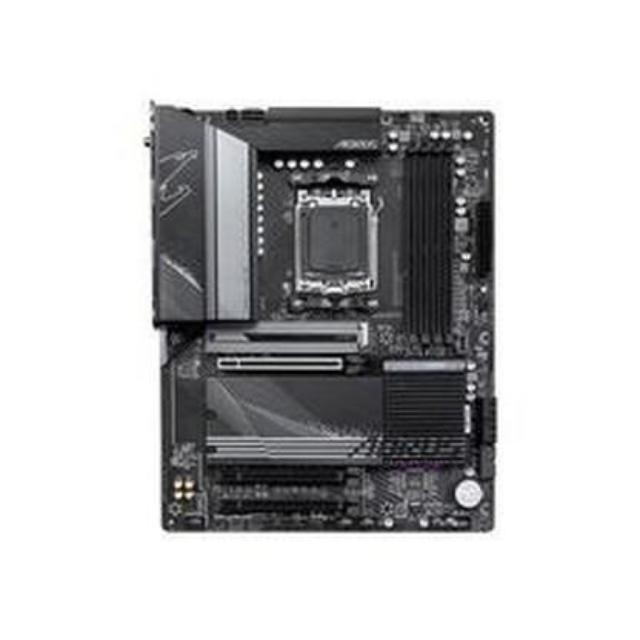Mainboard: (146, 94, 500, 534)
